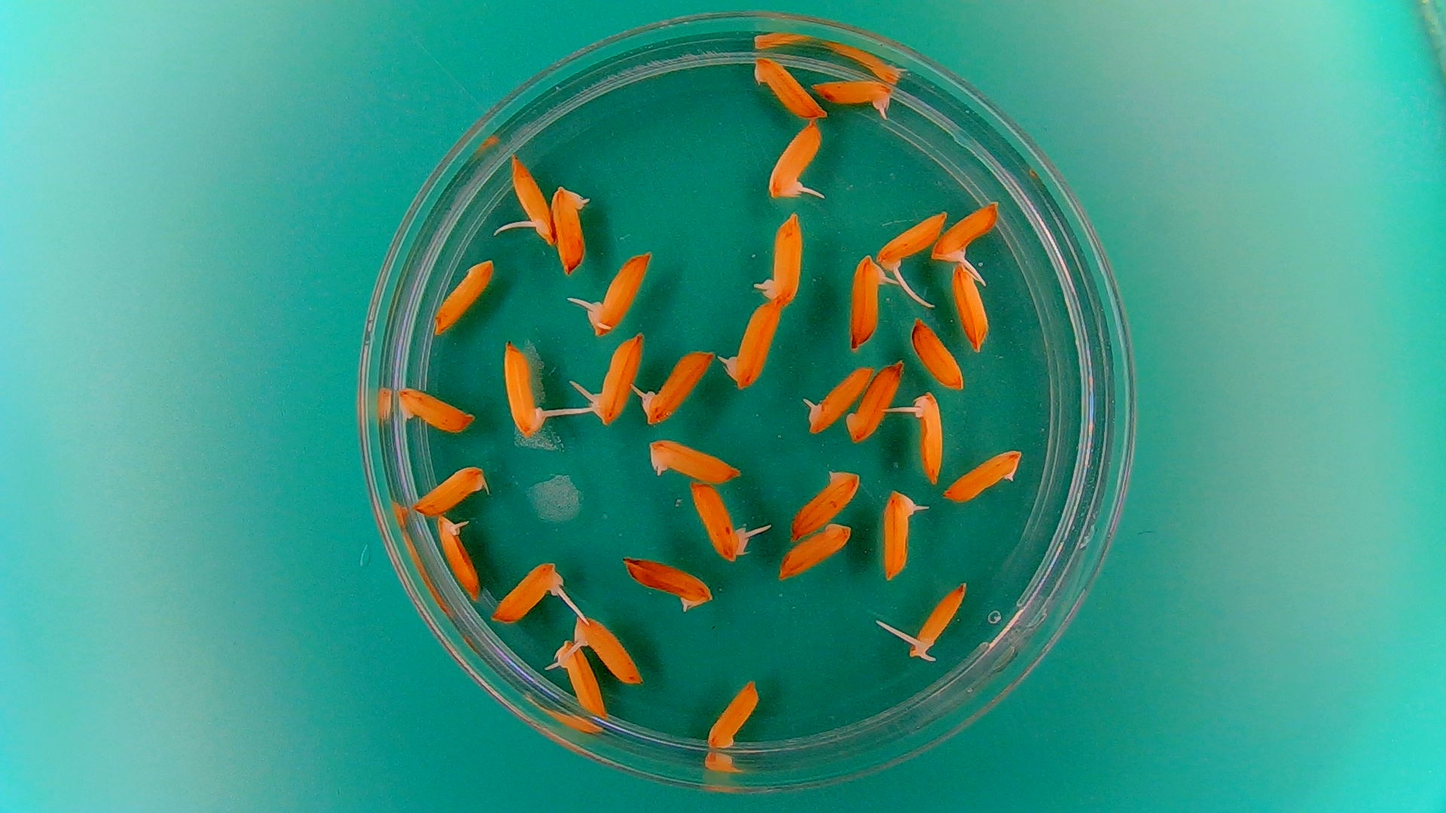no: (789, 466, 862, 542), (433, 255, 497, 336), (750, 53, 827, 120), (941, 444, 1025, 504), (647, 434, 744, 484), (776, 519, 855, 580), (847, 359, 902, 446), (704, 677, 761, 753), (410, 462, 490, 516), (393, 385, 477, 436), (908, 315, 964, 390), (949, 260, 991, 352)
yes: (621, 552, 712, 609), (753, 209, 804, 309), (805, 363, 874, 433), (573, 618, 645, 685), (587, 255, 648, 334), (643, 349, 708, 422), (686, 483, 746, 562), (905, 583, 966, 659), (490, 562, 560, 626), (590, 336, 640, 425), (728, 302, 778, 388), (555, 641, 609, 719), (435, 512, 482, 601), (502, 337, 545, 434), (929, 204, 999, 263), (876, 209, 944, 269), (846, 254, 886, 348), (770, 123, 819, 198), (810, 75, 897, 117), (880, 492, 921, 580), (908, 394, 946, 486), (550, 188, 590, 274), (512, 161, 553, 242)
